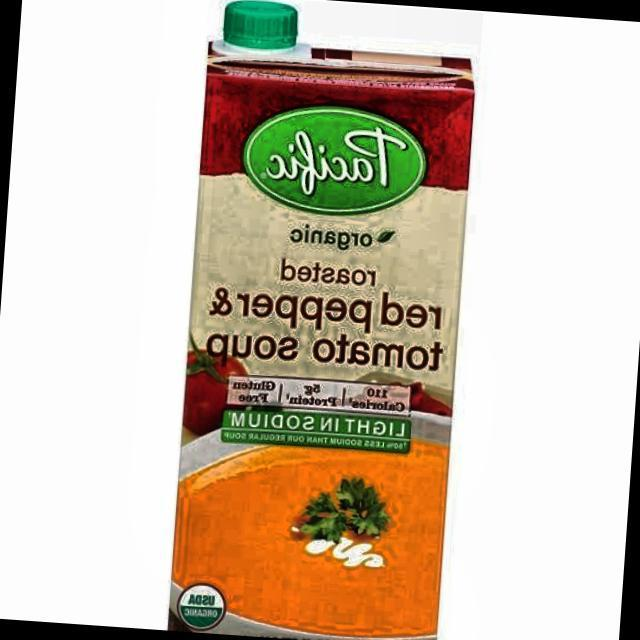cardboard: (166, 34, 480, 640)
